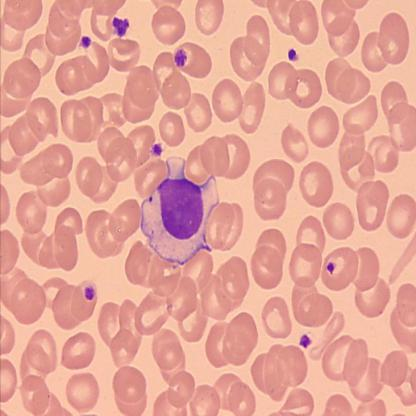Atypical lymphocyte: (142, 157, 216, 263)
